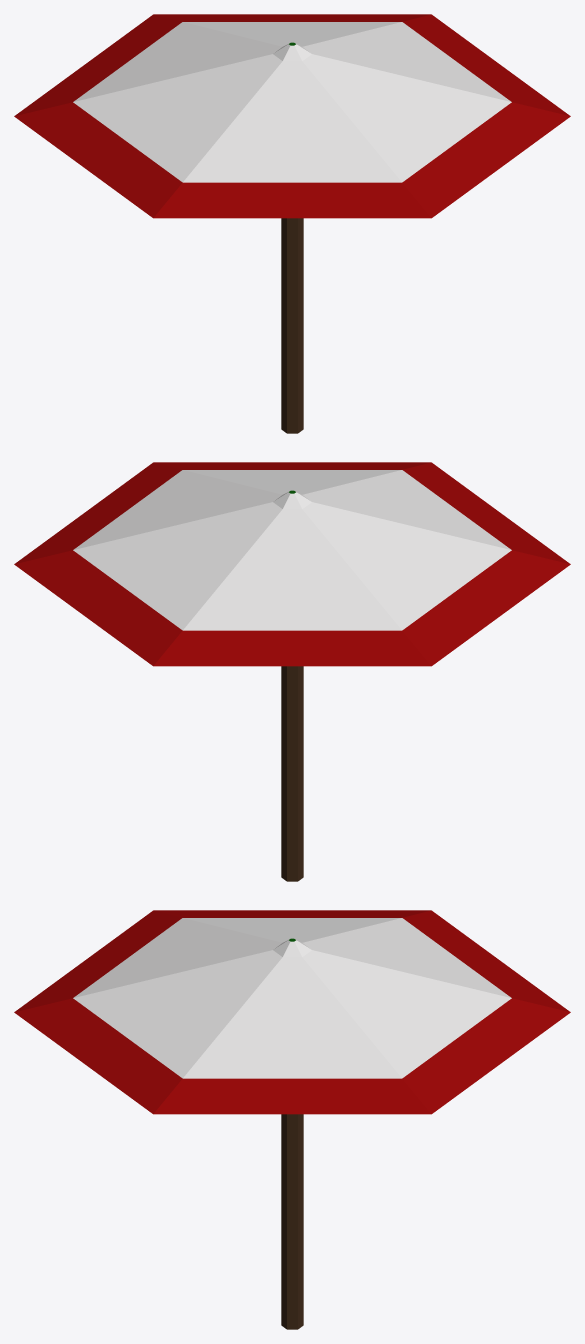
The model's file is Model_Parasol2.fbx.
3 views of the same model, one above another, from view 1: azimuth 30°, elevation 25°; view 2: azimuth 150°, elevation 25°; view 3: azimuth 270°, elevation 25° (orthographic).
Visible parts, largest first — view 1: Cube.006; view 2: Cube.006; view 3: Cube.006.
Boxes of the visible parts, x1,y1,x2,y2 form: Cube.006: [14, 14, 570, 433]; Cube.006: [14, 462, 570, 881]; Cube.006: [14, 910, 570, 1329].
Bounding box in the file's own units: 445 × 339 × 385.
